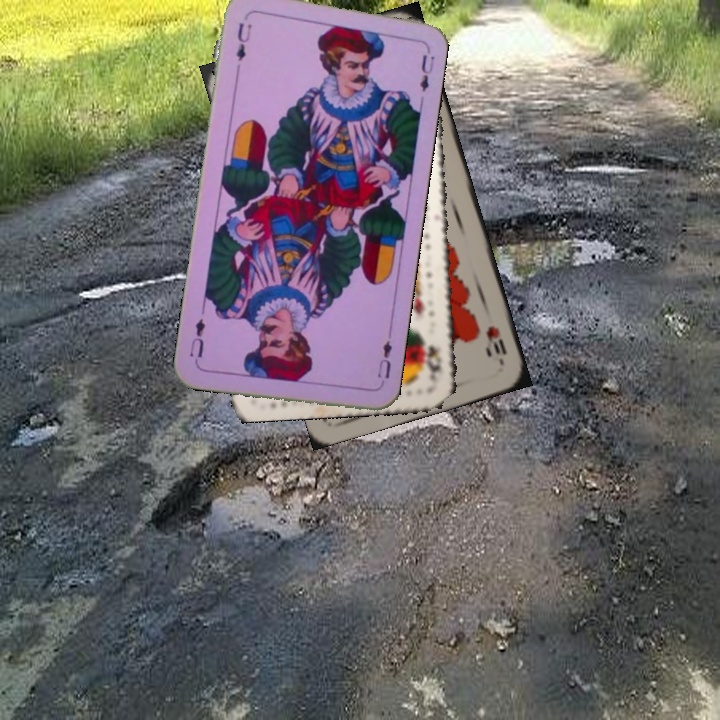EU: (373, 330, 395, 389), (232, 18, 255, 63)
H10: (482, 321, 510, 358)
SK: (421, 334, 445, 386)
